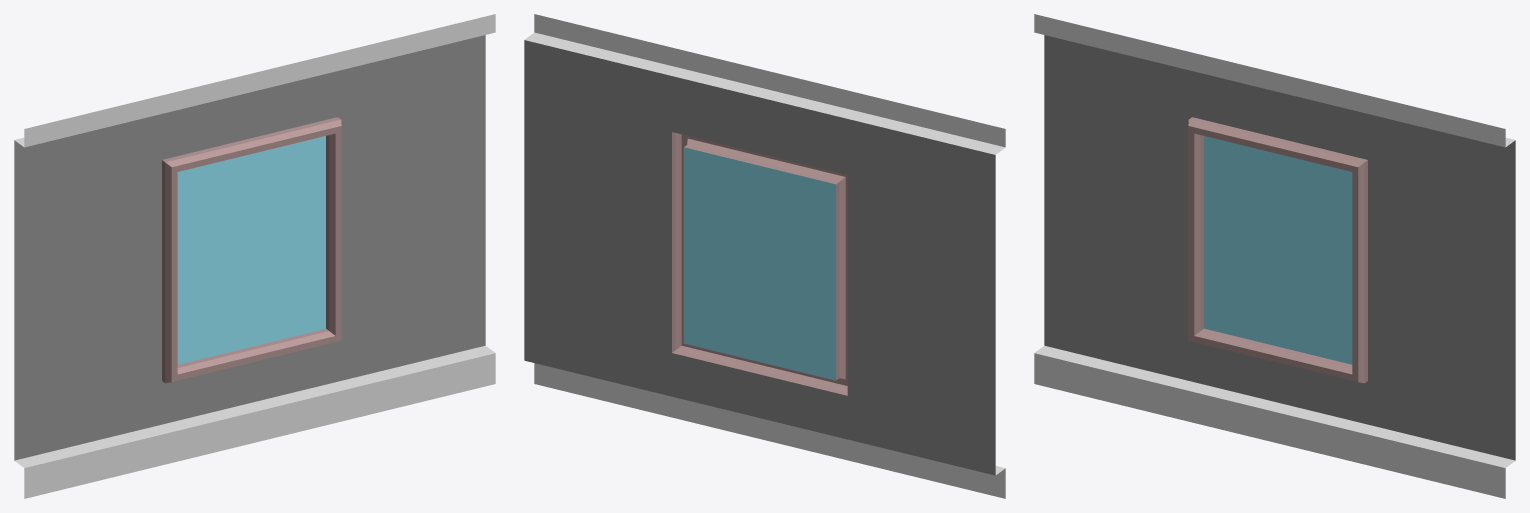
File: DefaultWindow2F.FBX
The picture shows the model from 3 angles, left to right: view 1: azimuth 30°, elevation 25°; view 2: azimuth 150°, elevation 25°; view 3: azimuth 330°, elevation 25°; orthographic projection.
Parts seen in each view (by area): view 1: WallNormal, Edge; view 2: WallNormal, Edge; view 3: WallNormal, Edge.
Part boxes in pixels (x1,y1,x2,y2): WallNormal: (14, 35, 485, 460); Edge: (14, 14, 495, 498); WallNormal: (524, 40, 995, 475); Edge: (524, 14, 1005, 498); WallNormal: (1044, 35, 1515, 460); Edge: (1034, 14, 1515, 498).
Size of the model in its own units: 400 by 300 by 15.
